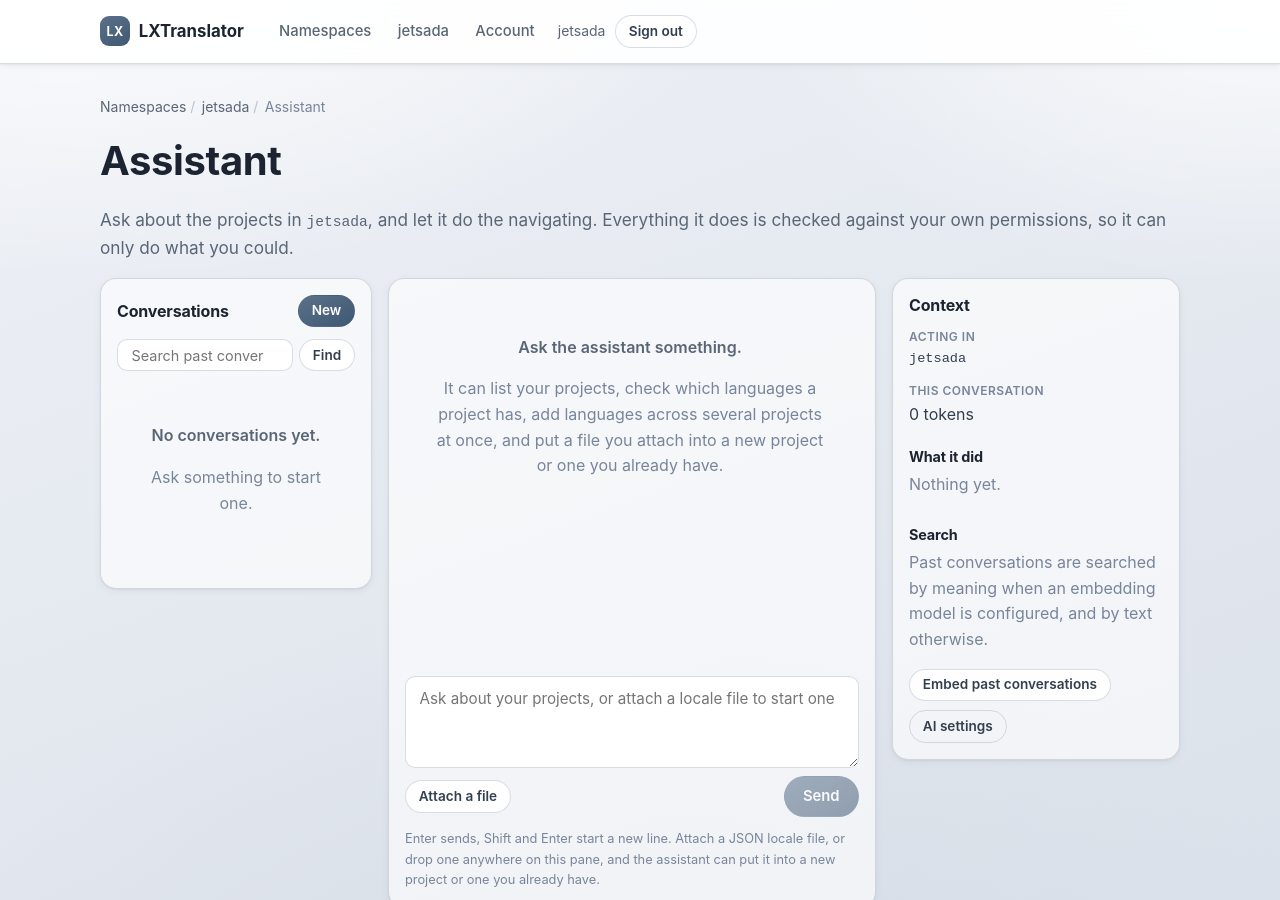
Test: the assistant › sending a message › renders a failure without losing what was typed on screen
The image size is (1280, 900).
Type "Anything" into the text box named "Message" at (632, 722), box x1=405 y1=676 x2=859 y2=768
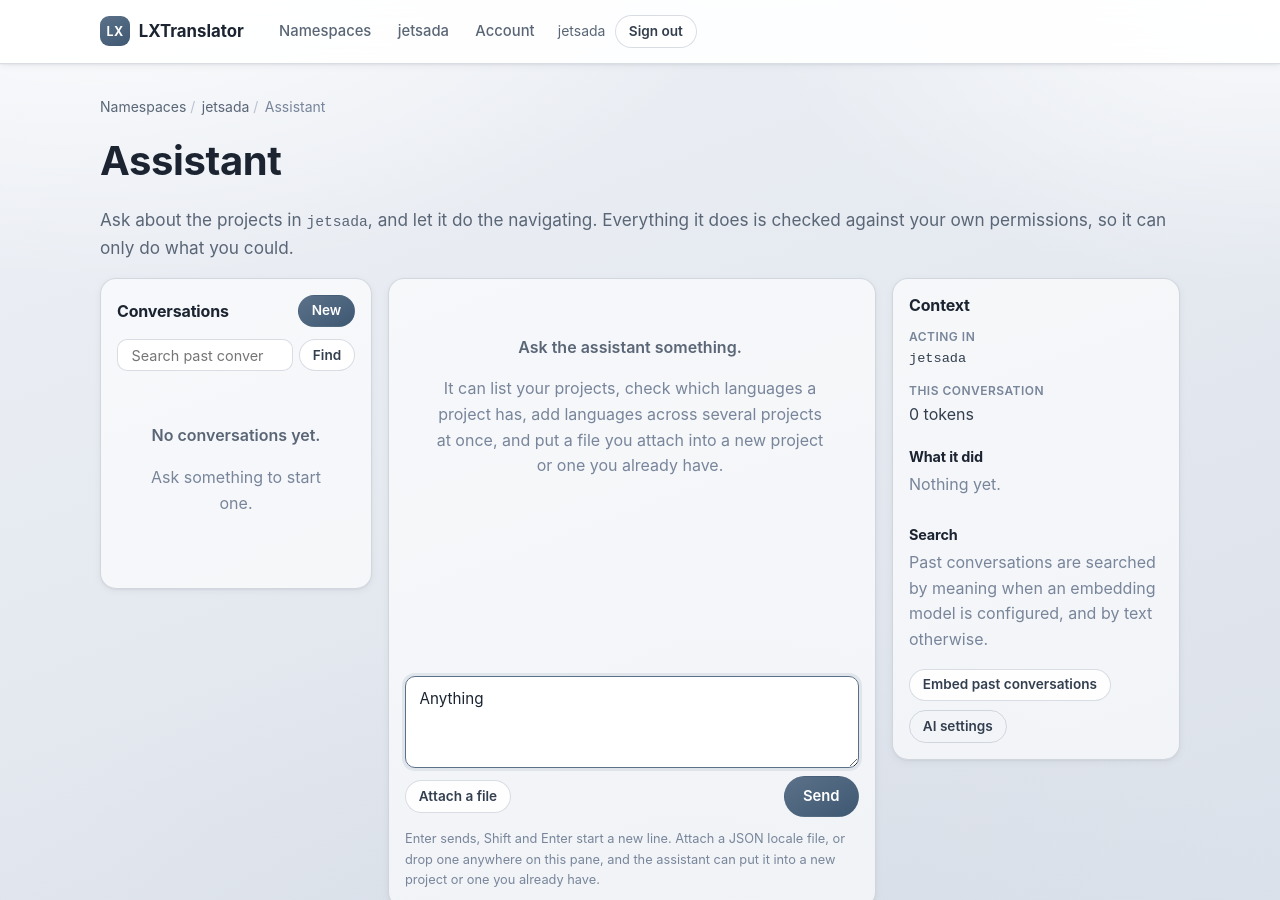
Click the button "Send" at (821, 797), box x1=784 y1=776 x2=859 y2=817
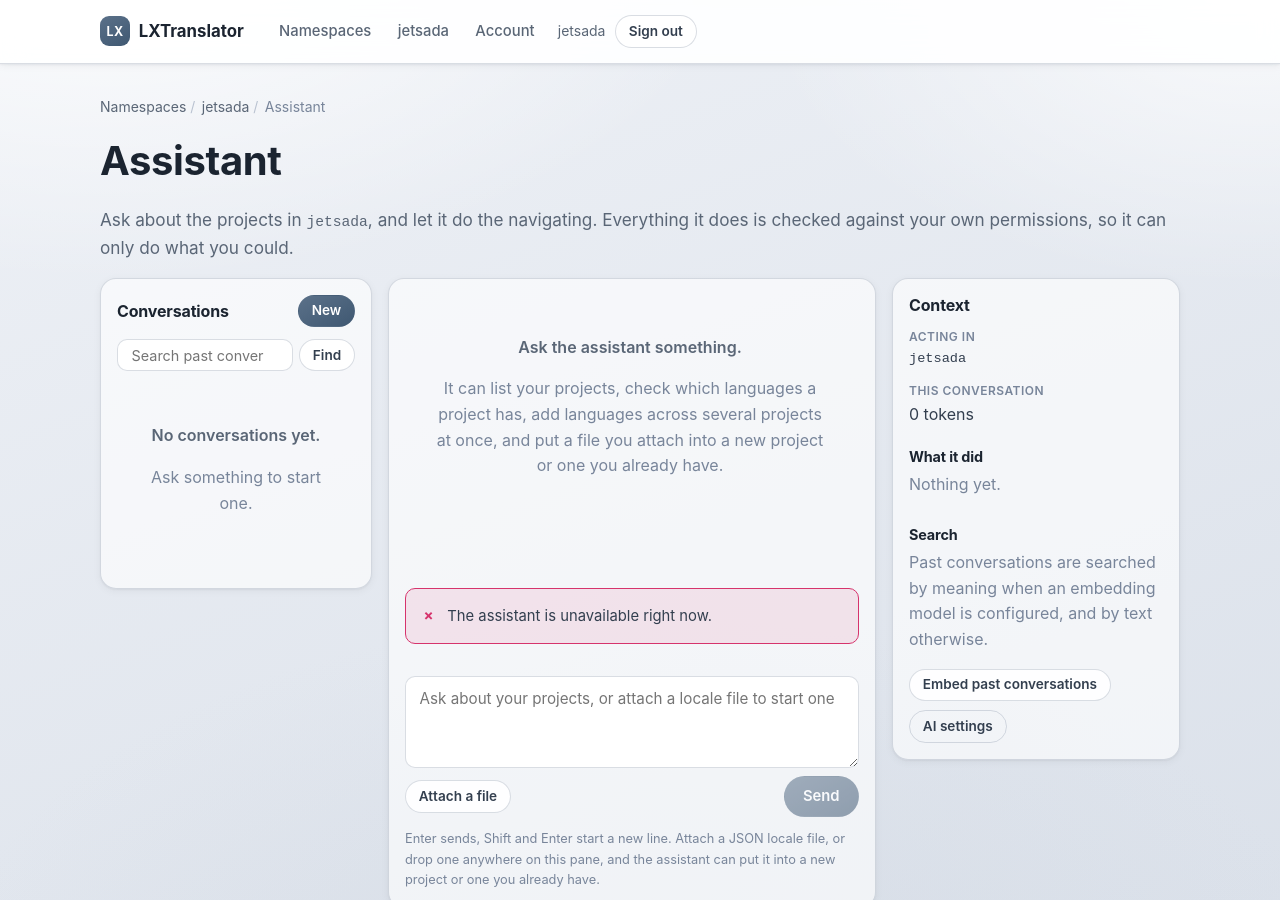
Expected: the text "The assistant is unavailable right now." is shown, x1=447 y1=606 x2=712 y2=624
